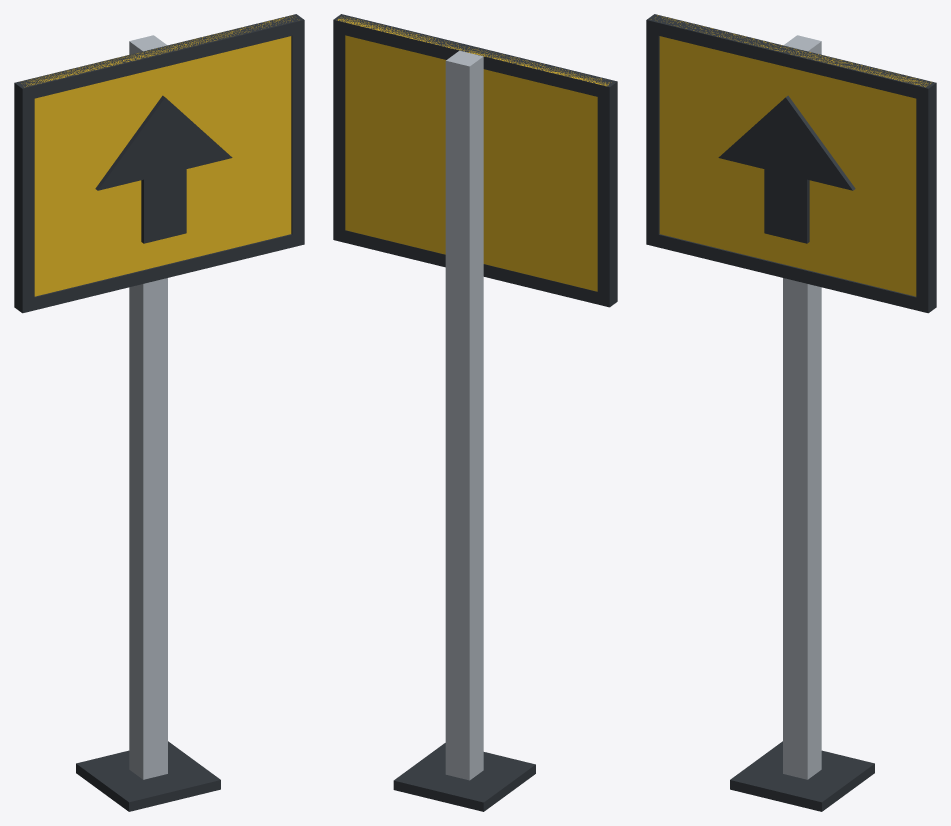
Rendered from zone-sign-pickup.glb.
3 views of the same model, side by side, from view 1: azimuth 30°, elevation 25°; view 2: azimuth 150°, elevation 25°; view 3: azimuth 330°, elevation 25° (orthographic). The views are drawn at different scales.
Parts seen in each view (by area): view 1: Prop_ZoneSign_Pickup_mesh; view 2: Prop_ZoneSign_Pickup_mesh; view 3: Prop_ZoneSign_Pickup_mesh.
Part boxes in pixels (left/top/right/bottom): Prop_ZoneSign_Pickup_mesh: left=14, top=14, right=304, bottom=811; Prop_ZoneSign_Pickup_mesh: left=333, top=14, right=617, bottom=811; Prop_ZoneSign_Pickup_mesh: left=646, top=14, right=936, bottom=811.
Size of the model in its own units: 0.92 by 2.3 by 0.3.
